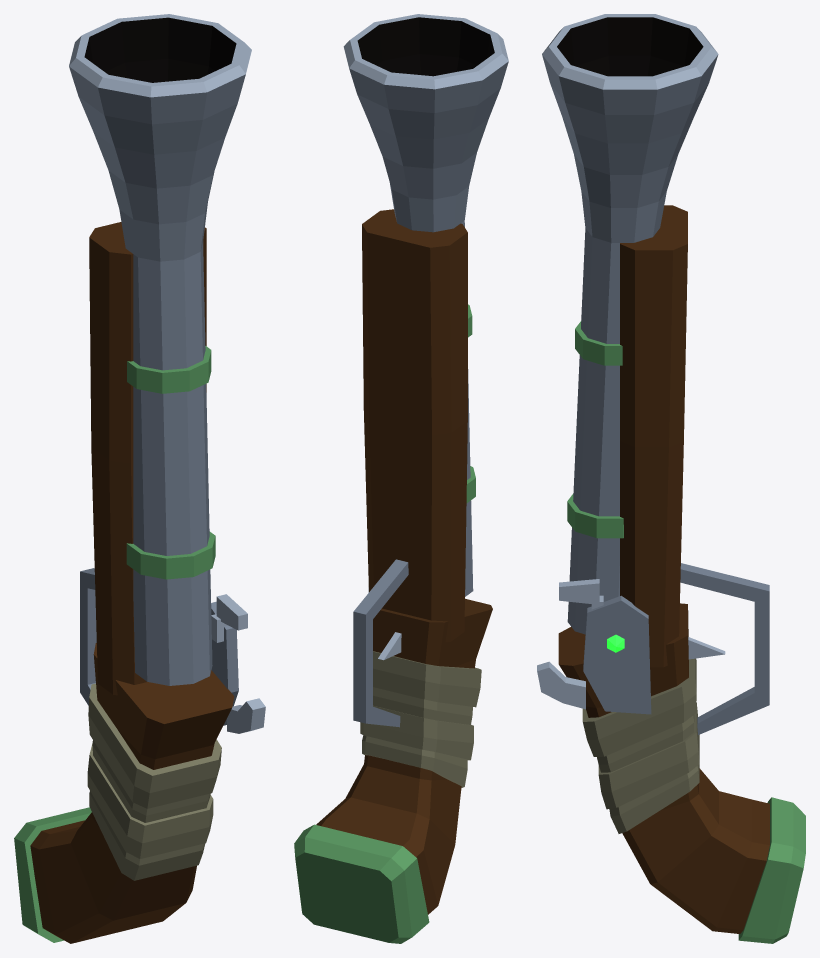
The model's file is gun_uncommon.glb.
The picture shows the model from 3 angles, left to right: view 1: azimuth 30°, elevation 25°; view 2: azimuth 150°, elevation 25°; view 3: azimuth 270°, elevation 25°; orthographic projection. The views are drawn at different scales.
Parts seen in each view (by area): view 1: gun_uncommon; view 2: gun_uncommon; view 3: gun_uncommon.
Boxes of the visible parts, box(x1,y1,x2,y2) form: gun_uncommon: box(14, 14, 265, 943); gun_uncommon: box(294, 14, 508, 943); gun_uncommon: box(537, 14, 805, 943).
Size of the model in its own units: 24.73 by 142 by 39.54.
